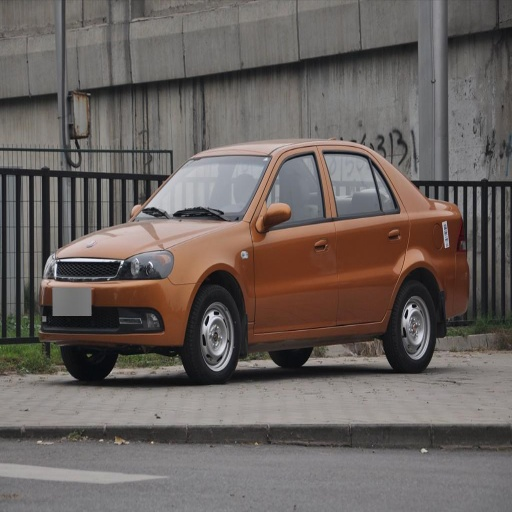front_bumper: (35, 258, 196, 343)
front_glass: (140, 156, 268, 219)
front_left_door: (253, 147, 337, 331)
